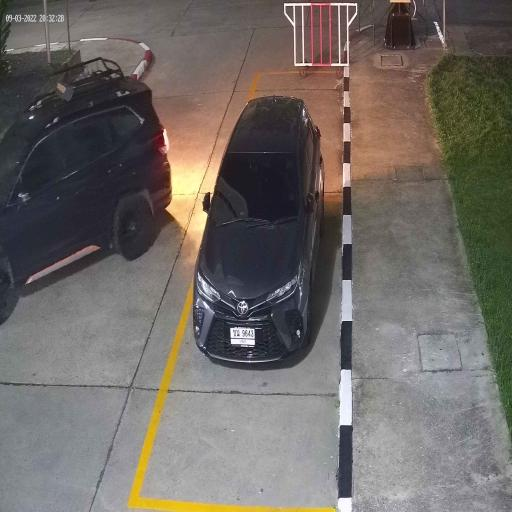car: (0, 72, 173, 326), (192, 94, 326, 369)
